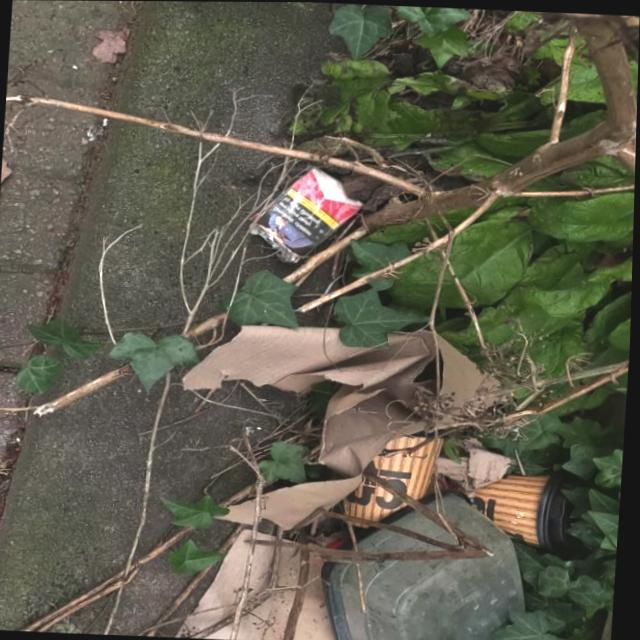Cup: (343, 426, 452, 531), (465, 466, 578, 551)
Paper: (246, 163, 367, 266)
